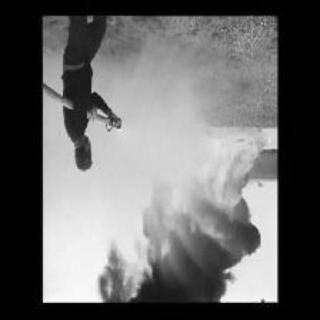Fire: (137, 125, 267, 268)
